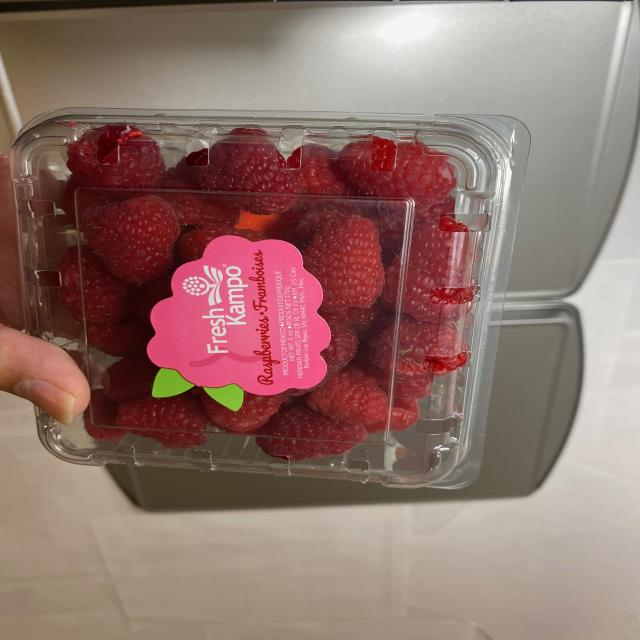raspberries: (56, 116, 478, 472)
